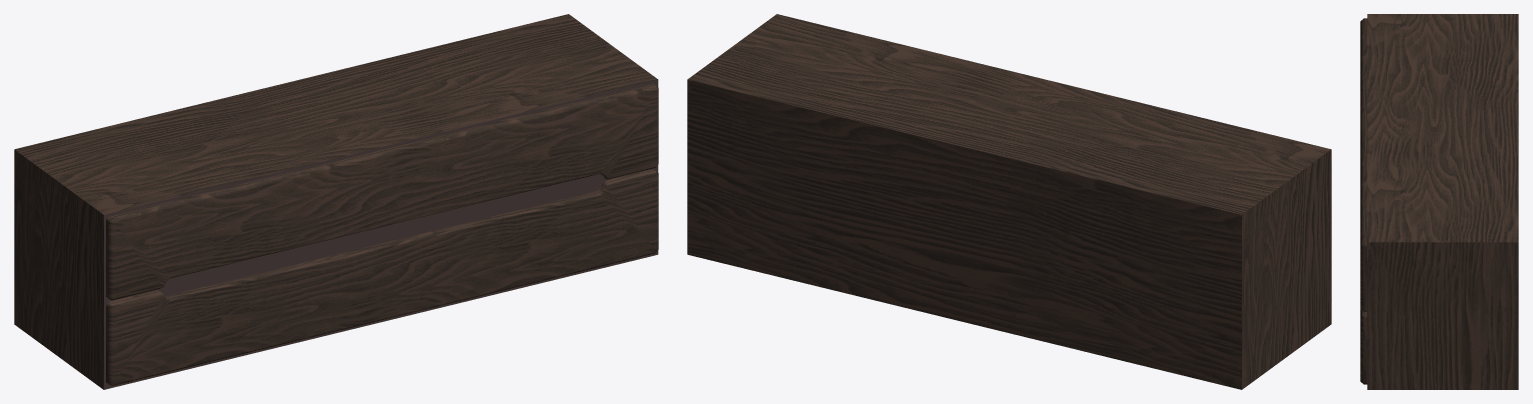
The model's file is wall_cabinet_035.fbx.
The picture shows the model from 3 angles, left to right: view 1: azimuth 30°, elevation 25°; view 2: azimuth 150°, elevation 25°; view 3: azimuth 270°, elevation 25°; orthographic projection. The views are drawn at different scales.
Visible parts, largest first — view 1: wall_cabinet_035; view 2: wall_cabinet_035; view 3: wall_cabinet_035.
Boxes of the visible parts, left/top/right/bottom form: wall_cabinet_035: left=14, top=14, right=658, bottom=389; wall_cabinet_035: left=687, top=14, right=1331, bottom=389; wall_cabinet_035: left=1360, top=14, right=1518, bottom=389.
Bounding box in the file's own units: 227 × 66.51 × 68.37.
